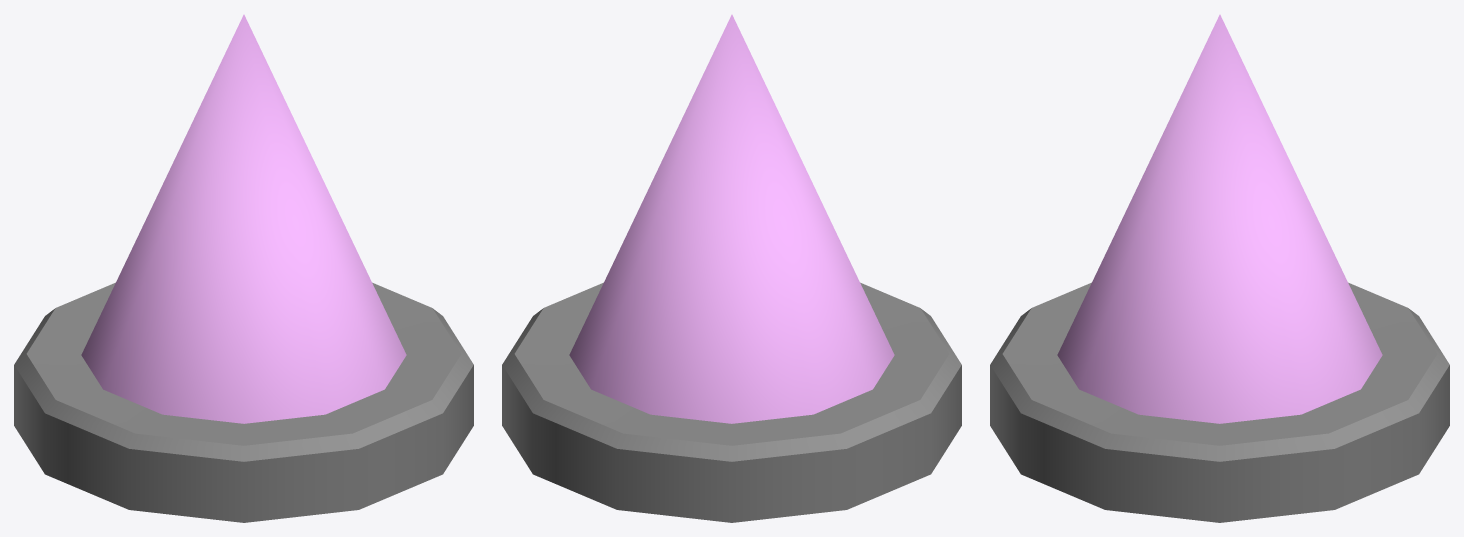
The model's file is Obstacle_19.fbx.
The picture shows the model from 3 angles, left to right: view 1: azimuth 30°, elevation 25°; view 2: azimuth 150°, elevation 25°; view 3: azimuth 270°, elevation 25°; orthographic projection.
Parts seen in each view (by area): view 1: Obstacle_19; view 2: Obstacle_19; view 3: Obstacle_19.
Part boxes in pixels (x1=…): Obstacle_19: x1=14, y1=14, x2=473, y2=522; Obstacle_19: x1=502, y1=14, x2=961, y2=522; Obstacle_19: x1=990, y1=14, x2=1449, y2=522.
Bounding box in the file's own units: 0.468 × 0.4627 × 0.4681.
